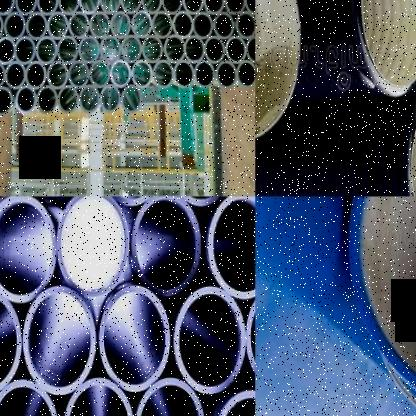pipe: (347, 196, 416, 414), (24, 288, 96, 396), (174, 287, 246, 394), (99, 286, 170, 391), (57, 196, 129, 296), (131, 196, 202, 296), (256, 0, 300, 140), (0, 197, 58, 302), (360, 0, 416, 88), (208, 197, 255, 298), (63, 377, 134, 416), (134, 377, 204, 416), (0, 289, 21, 396), (0, 379, 59, 416), (214, 389, 255, 416), (410, 81, 416, 196), (14, 36, 36, 66), (204, 35, 226, 65), (78, 35, 100, 65), (68, 60, 90, 90), (121, 34, 142, 65), (153, 59, 174, 90), (4, 12, 26, 41), (26, 12, 48, 41), (214, 11, 236, 40), (68, 11, 90, 40), (14, 86, 36, 115), (4, 61, 26, 90), (46, 61, 68, 90), (194, 60, 216, 89), (131, 60, 153, 89), (110, 60, 132, 89), (100, 35, 121, 65), (164, 35, 185, 65), (235, 10, 256, 40), (152, 10, 173, 40), (79, 85, 100, 115), (142, 35, 163, 64), (192, 11, 213, 40), (131, 10, 152, 39), (36, 86, 57, 115), (58, 86, 79, 115), (100, 85, 121, 114), (121, 85, 142, 114), (25, 61, 46, 90), (216, 60, 237, 89), (36, 36, 56, 66), (111, 10, 131, 40), (173, 10, 193, 40), (58, 36, 78, 65), (48, 12, 68, 41), (174, 60, 194, 89), (90, 60, 110, 89), (184, 36, 204, 64), (226, 36, 246, 64), (90, 11, 110, 39), (236, 60, 256, 88), (0, 36, 15, 65), (0, 86, 14, 116), (14, 0, 36, 16), (37, 0, 58, 16), (224, 0, 245, 16), (203, 0, 224, 15), (58, 0, 79, 15), (99, 0, 120, 15), (162, 0, 183, 15), (183, 0, 204, 15), (120, 0, 141, 15), (79, 0, 99, 15), (140, 0, 160, 15), (246, 35, 255, 64), (0, 0, 15, 16), (245, 0, 255, 16), (0, 61, 4, 90), (0, 12, 3, 41)
